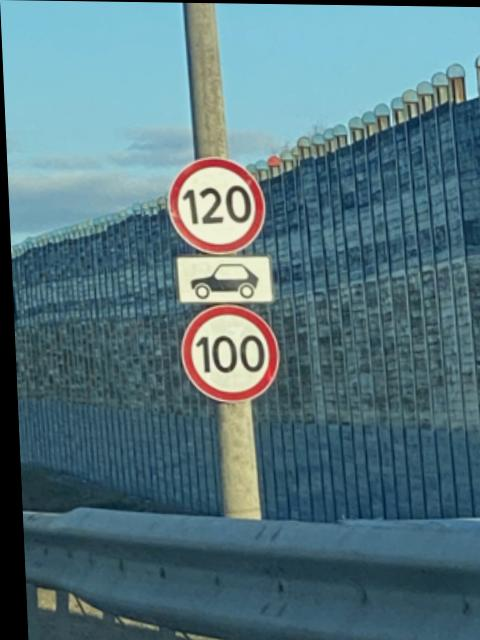limit100: (173, 295, 281, 406)
limit120: (159, 149, 267, 260)
